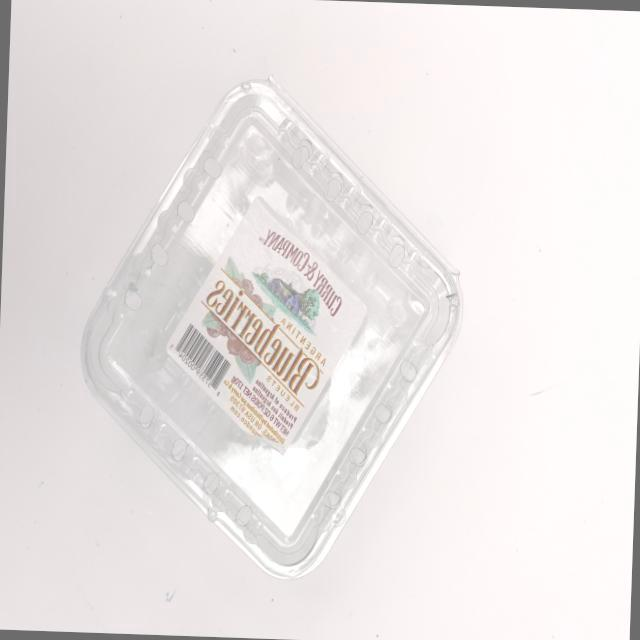plastic: (40, 66, 500, 599)
